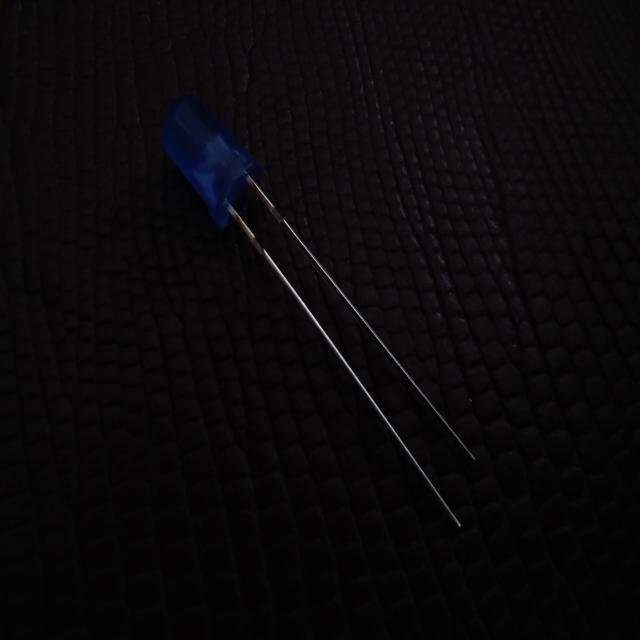blue_led: (160, 92, 263, 230)
